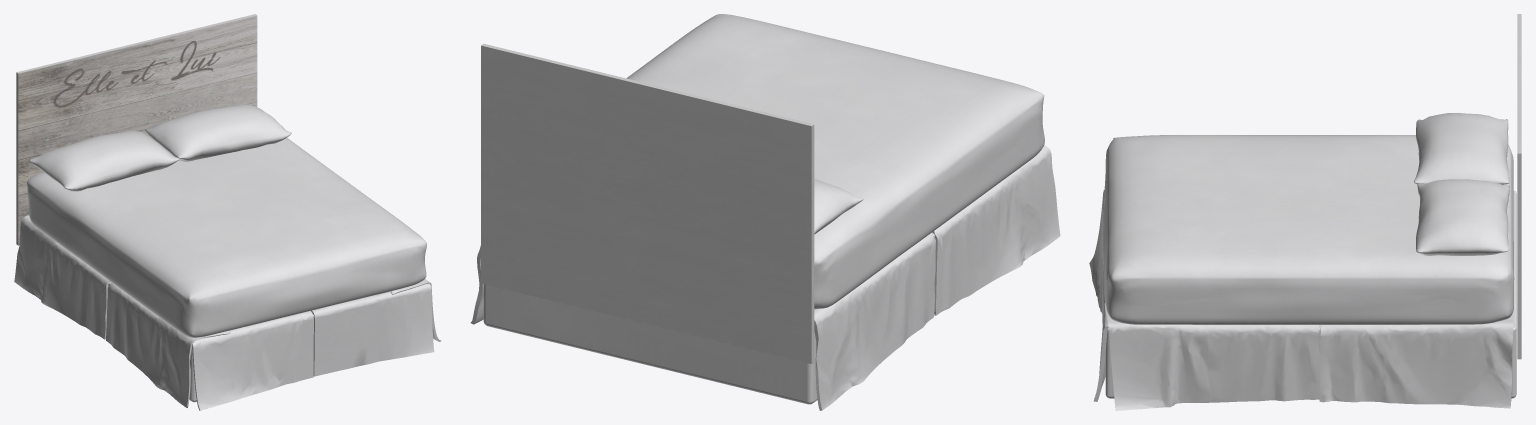
Rendered from abo_B07GFFY4TQ.glb.
3 views of the same model, side by side, from view 1: azimuth 30°, elevation 25°; view 2: azimuth 150°, elevation 25°; view 3: azimuth 270°, elevation 25° (orthographic). The views are drawn at different scales.
Visible parts, largest first — view 1: RootNode; view 2: RootNode; view 3: RootNode.
Boxes of the visible parts, bbox=[...] form: RootNode: bbox=[14, 14, 441, 410]; RootNode: bbox=[470, 14, 1060, 410]; RootNode: bbox=[1089, 14, 1521, 410].
Bounding box in the file's own units: 1.74 × 1.34 × 2.09.
1 material, 1 textured.
